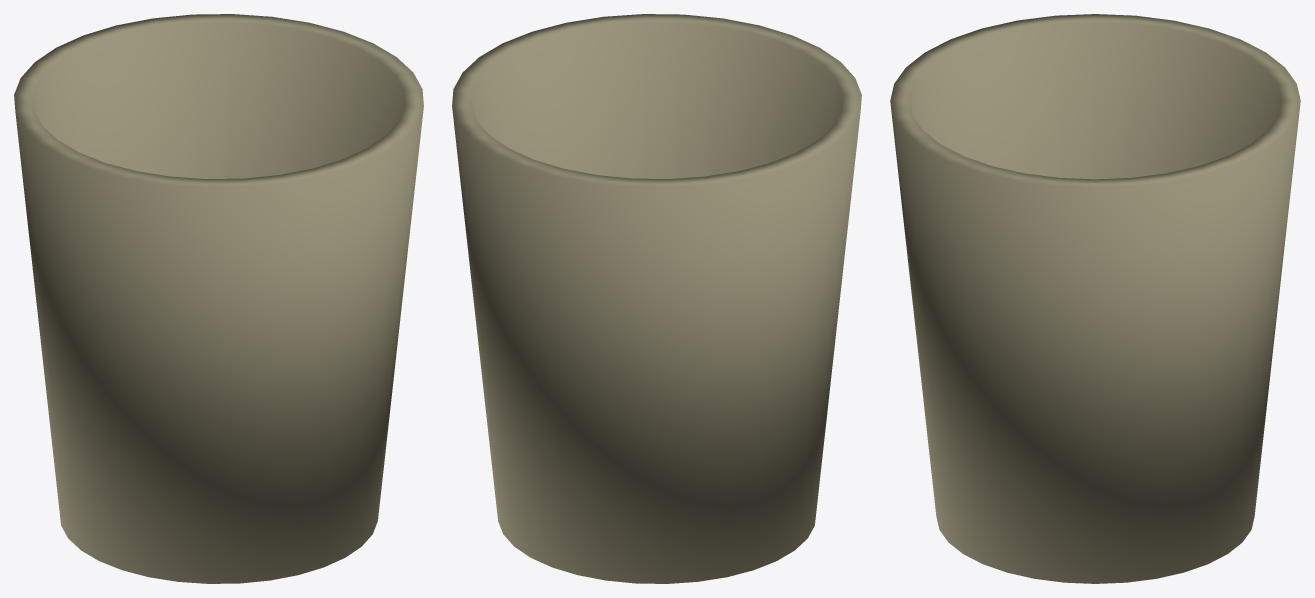
File: Bin.fbx
3 renders of one model, left to right at view 1: azimuth 30°, elevation 25°; view 2: azimuth 150°, elevation 25°; view 3: azimuth 270°, elevation 25°, orthographic.
Parts seen in each view (by area): view 1: Bin; view 2: Bin; view 3: Bin.
Boxes of the visible parts, <box> form: Bin: <box>14,14,423,583</box>; Bin: <box>452,14,861,583</box>; Bin: <box>890,14,1300,583</box>.
Bounding box in the file's own units: 45.78 × 51.18 × 45.78.
